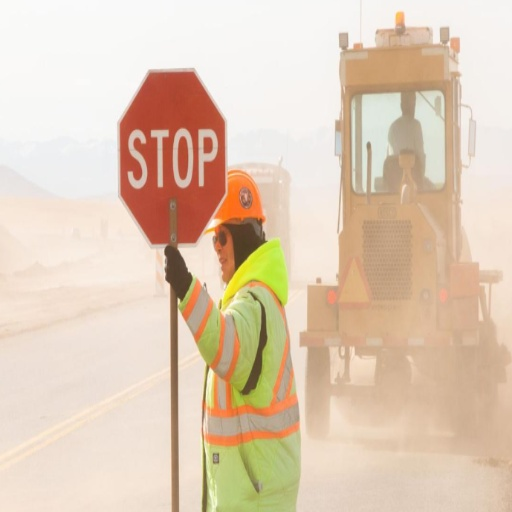Stop: (95, 53, 233, 255)
